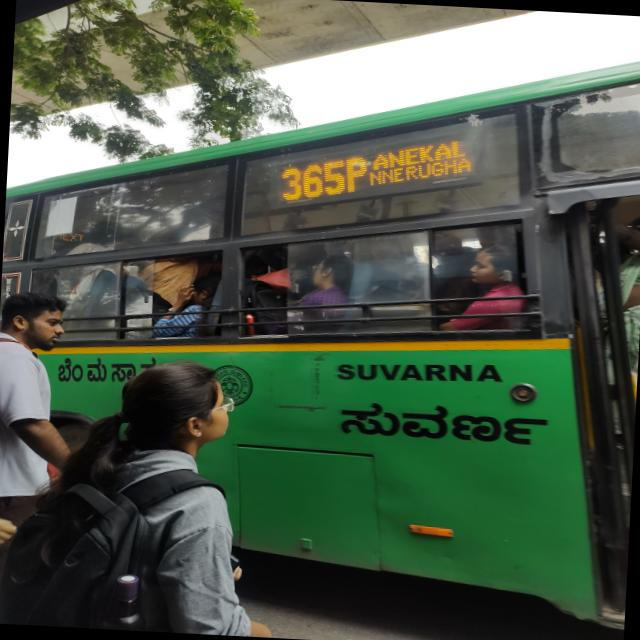bus: (0, 12, 640, 640)
display: (278, 123, 476, 222)
dnumber: (284, 153, 372, 208)
